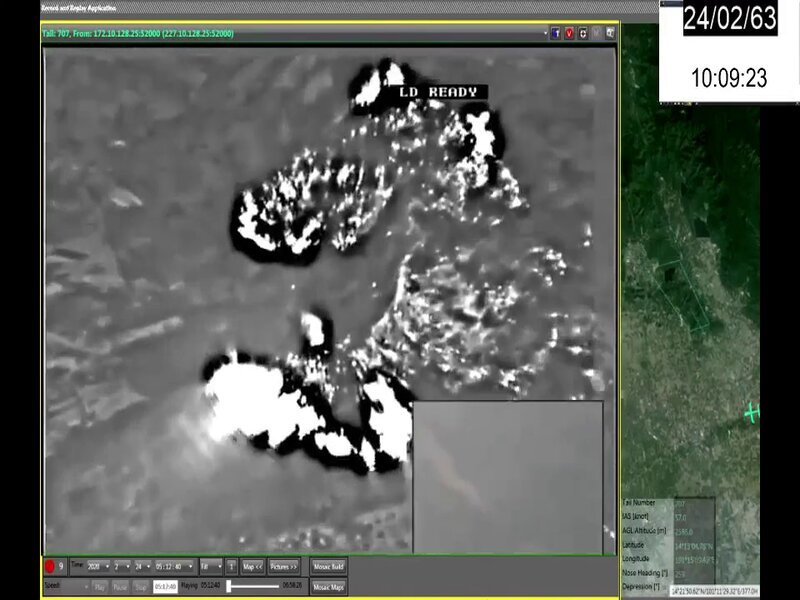Fire: (201, 58, 412, 477)
